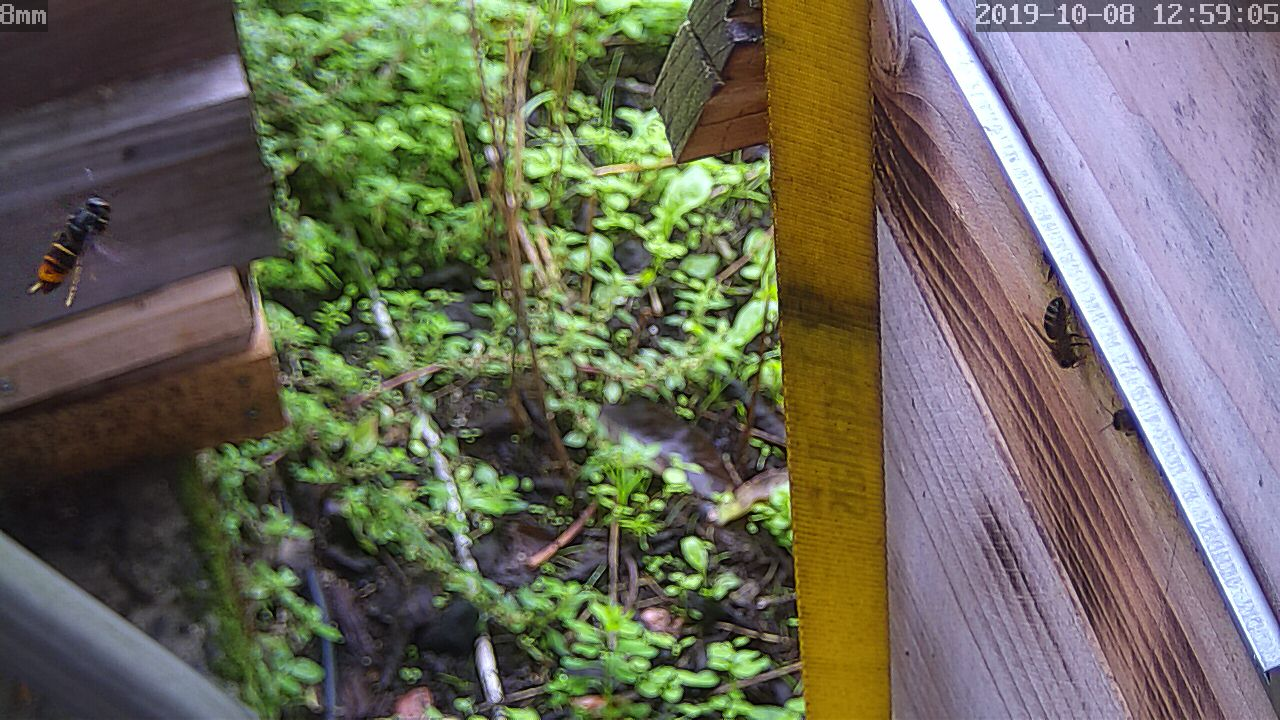bee: (1030, 287, 1097, 378), (1091, 391, 1151, 452)
hornet: (20, 189, 119, 301)
